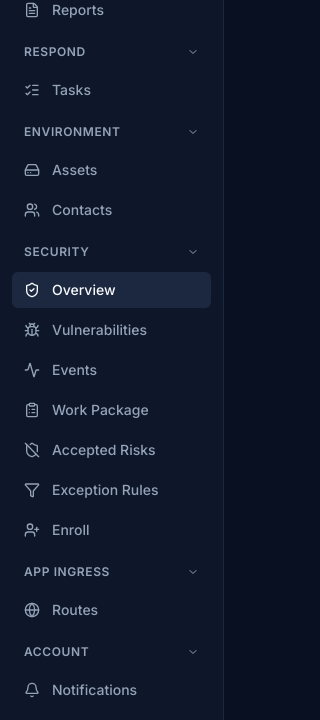
Scenario: AppSidebar › renders Account as a collapsible section
(page scrolled)
Expected: the link "Notifications" is shown, [24, 681, 137, 698]
Click the button "Account" at (112, 652), box [12, 636, 211, 668]
(page scrolled)
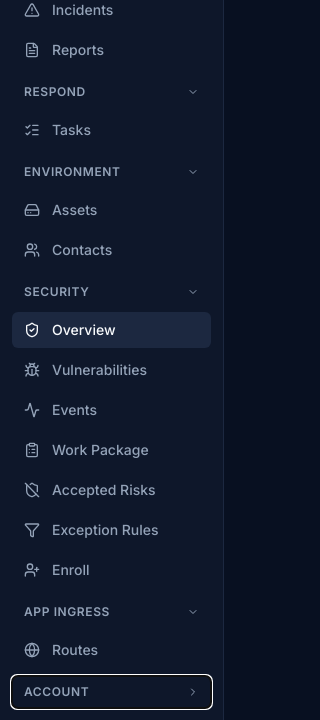
Expected: the link "Notifications" is gone
